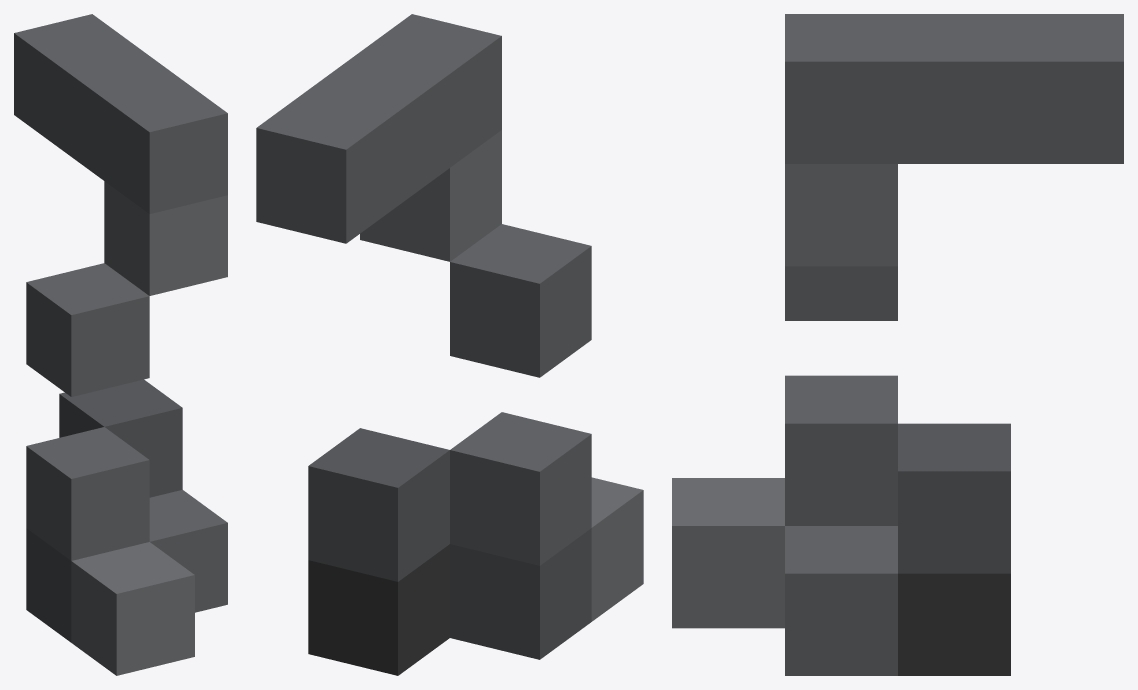
Rendered from wolfneonLegRightFront.obj.
3 renders of one model, left to right at view 1: azimuth 30°, elevation 25°; view 2: azimuth 150°, elevation 25°; view 3: azimuth 270°, elevation 25°, orthographic. The views are drawn at different scales.
Visible parts, largest first — view 1: wolfneonLegRightFront; view 2: wolfneonLegRightFront; view 3: wolfneonLegRightFront.
Boxes of the visible parts, x1,y1,x2,y2 form: wolfneonLegRightFront: (14, 14, 227, 675); wolfneonLegRightFront: (256, 14, 643, 675); wolfneonLegRightFront: (672, 14, 1123, 675).
Bounding box in the file's own units: 2 × 6 × 4.
1 material, 1 textured.
